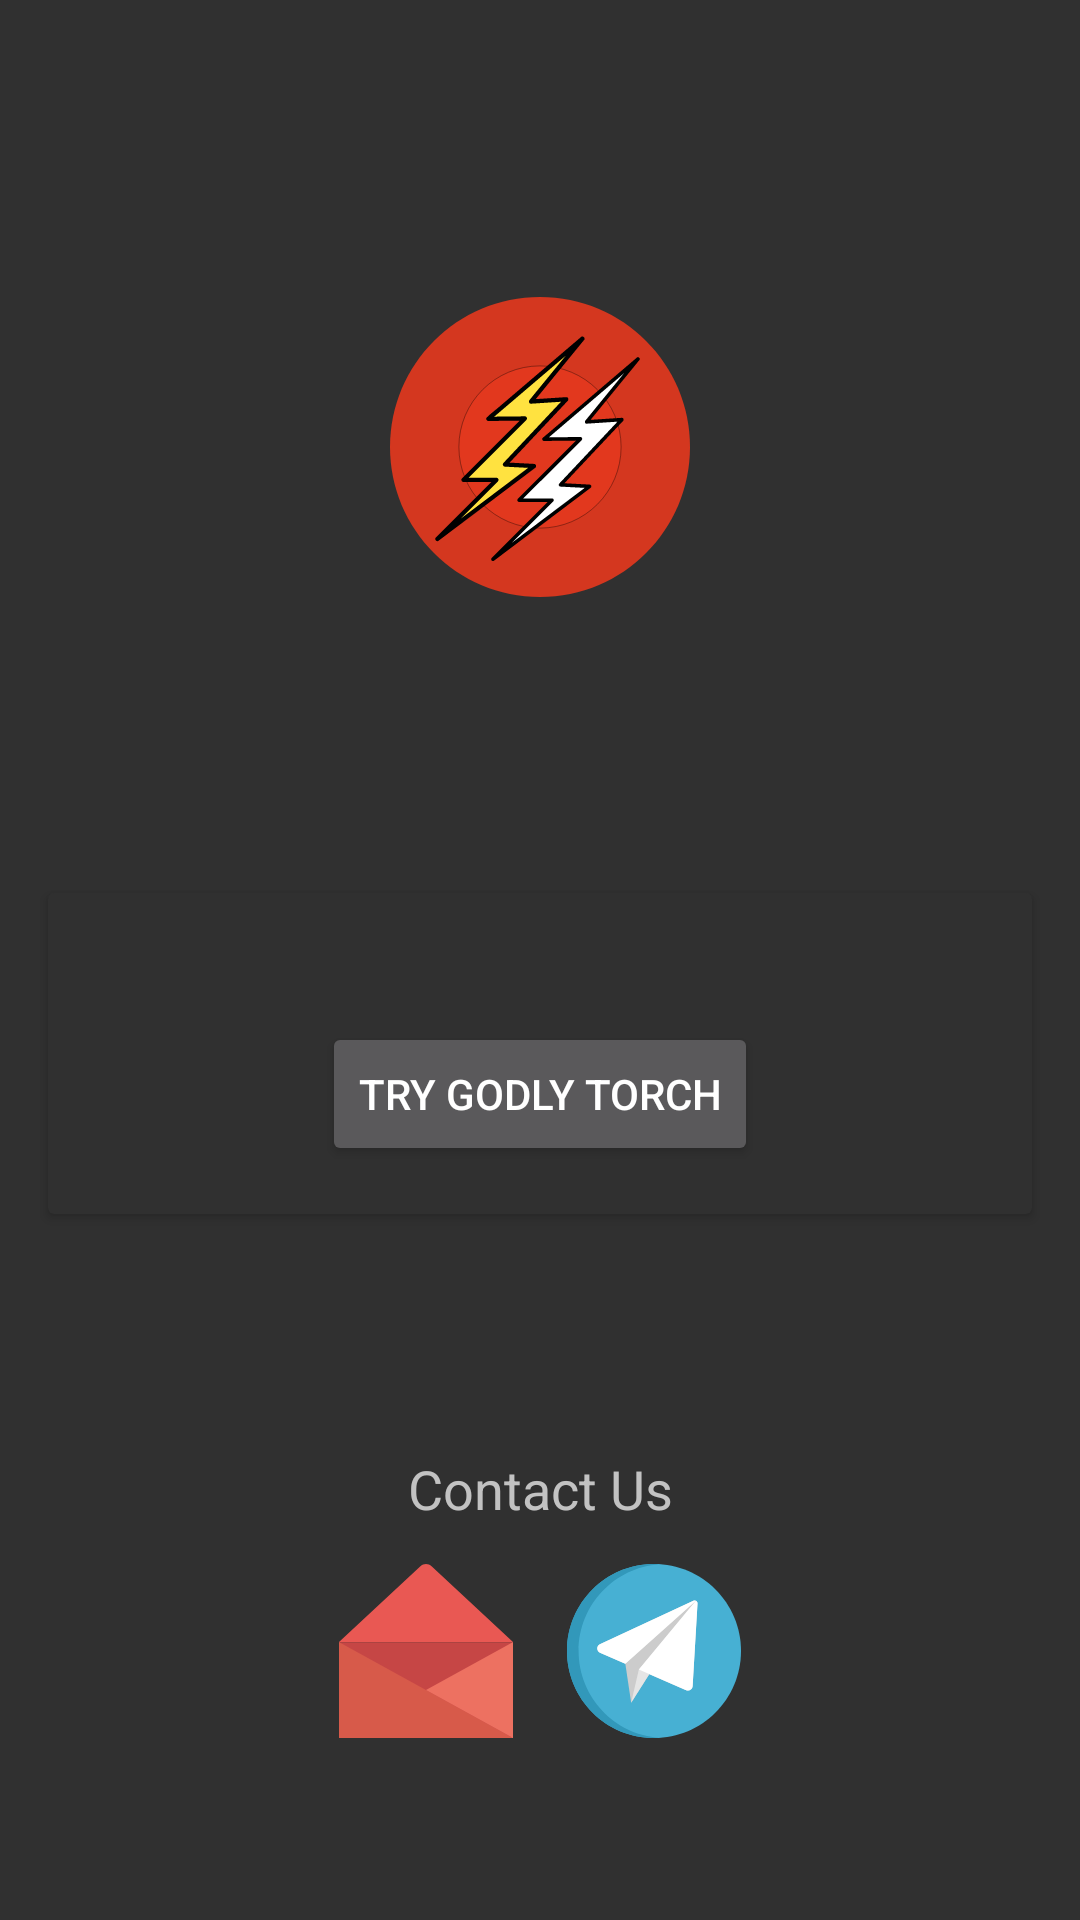

Locate icon controls on the screen. Image size 1080x1920, boxes as (x1, y1, x2, y2).
mail: (339, 1564, 513, 1738)
